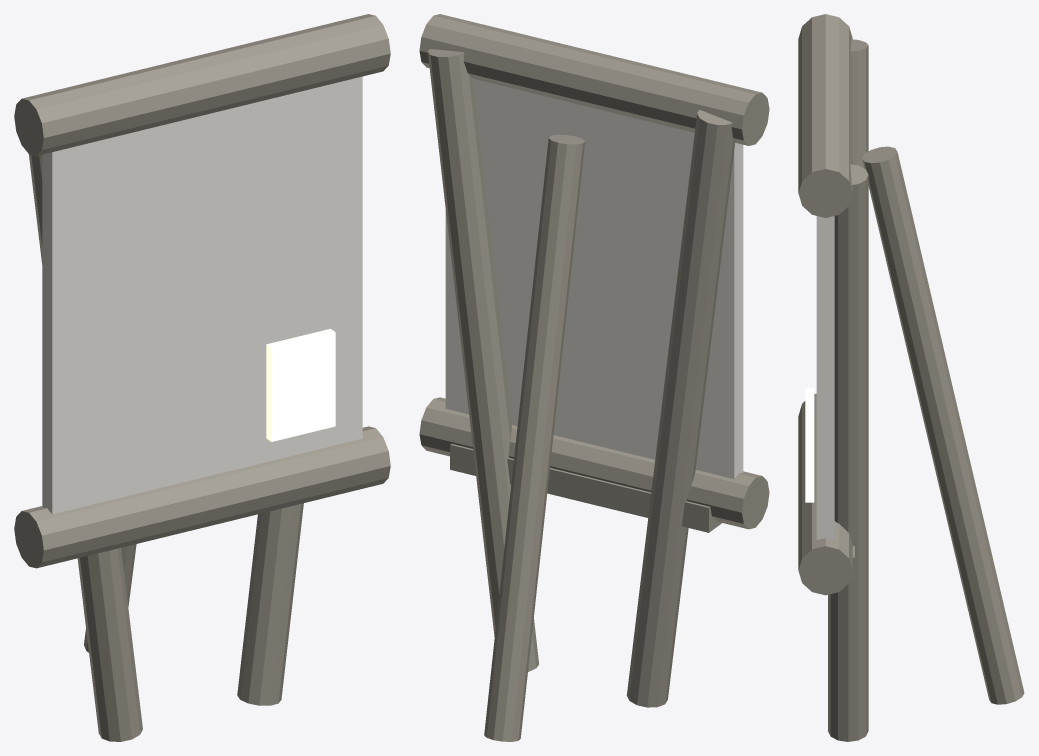
The model's file is LM02_Huayun.glb.
3 renders of one model, left to right at view 1: azimuth 30°, elevation 25°; view 2: azimuth 150°, elevation 25°; view 3: azimuth 270°, elevation 25°, orthographic. The views are drawn at different scales.
Parts seen in each view (by area): view 1: ScrollPanel, RollerTop, RollerBot, LegL, LegR, RepairPatch; view 2: ScrollPanel, LegL, LegBack, LegR, RollerTop, RollerBot, Crossbar; view 3: LegBack, LegR, RollerTop, ScrollPanel, RollerBot, LegL, RepairPatch.
Boxes of the visible parts, box(x1,y1,x2,y2) form: ScrollPanel: box(42, 76, 362, 514); RollerTop: box(14, 14, 390, 155); RollerBot: box(14, 426, 390, 568); LegL: box(29, 154, 142, 741); LegR: box(237, 503, 303, 705); RepairPatch: box(266, 328, 335, 441); ScrollPanel: box(445, 78, 743, 478); LegL: box(626, 109, 734, 707); LegBack: box(484, 134, 585, 741); LegR: box(427, 49, 538, 671); RollerTop: box(419, 14, 769, 145); RollerBot: box(419, 397, 769, 529); Crossbar: box(450, 444, 721, 532); LegBack: box(862, 146, 1024, 704); LegR: box(828, 164, 868, 741); RollerTop: box(798, 14, 852, 217); ScrollPanel: box(816, 216, 834, 539); RollerBot: box(798, 393, 852, 595); LegL: box(850, 39, 868, 167); RepairPatch: box(805, 388, 814, 502).
Size of the model in its own units: 1.62 by 2.98 by 0.9989.
